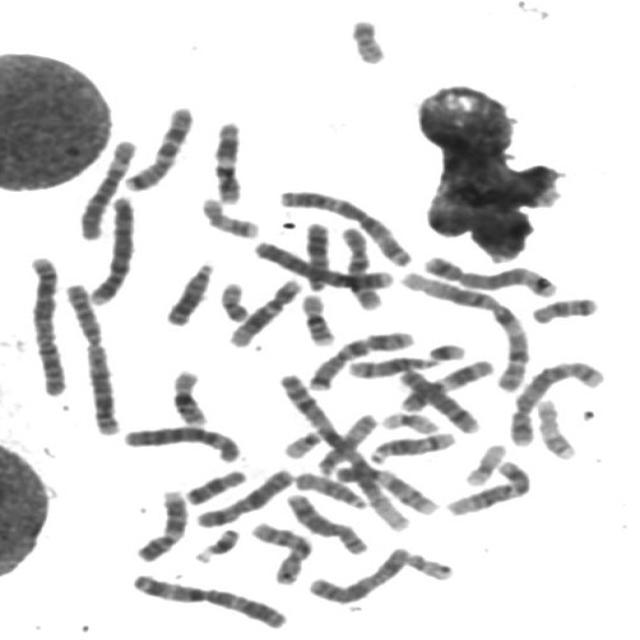A1: (272, 366, 414, 534), (394, 265, 533, 394)
A2: (60, 278, 124, 437), (23, 249, 71, 398)
A3: (274, 184, 418, 269), (125, 567, 292, 631)
B4: (248, 236, 396, 292), (84, 190, 140, 306)
B5: (504, 355, 608, 448), (419, 250, 561, 298)
C10: (246, 516, 318, 586), (334, 222, 386, 312)
C11: (395, 354, 497, 414), (208, 115, 247, 206)
C12: (223, 272, 306, 348), (441, 456, 534, 518)
C6: (74, 134, 141, 242), (118, 419, 244, 465)
C7: (302, 325, 418, 391), (119, 100, 198, 193)
C8: (281, 488, 374, 556), (394, 364, 483, 434)
C9: (332, 460, 441, 517), (132, 484, 192, 564)
D13: (161, 257, 218, 328), (301, 218, 333, 292)
D14: (365, 425, 459, 466), (343, 351, 444, 379)
D15: (313, 408, 382, 477), (290, 466, 370, 510)
E16: (166, 364, 213, 428), (296, 288, 339, 346)
E17: (196, 192, 263, 240), (532, 395, 580, 461)
E18: (180, 465, 250, 506), (526, 291, 602, 326)
F19: (460, 438, 511, 488), (376, 407, 444, 435)
F20: (346, 13, 390, 65), (215, 277, 252, 324)
G21: (188, 523, 244, 565), (422, 337, 470, 363)
G22: (402, 547, 458, 582), (278, 424, 326, 460)
X: (192, 462, 298, 530), (304, 542, 414, 606)
